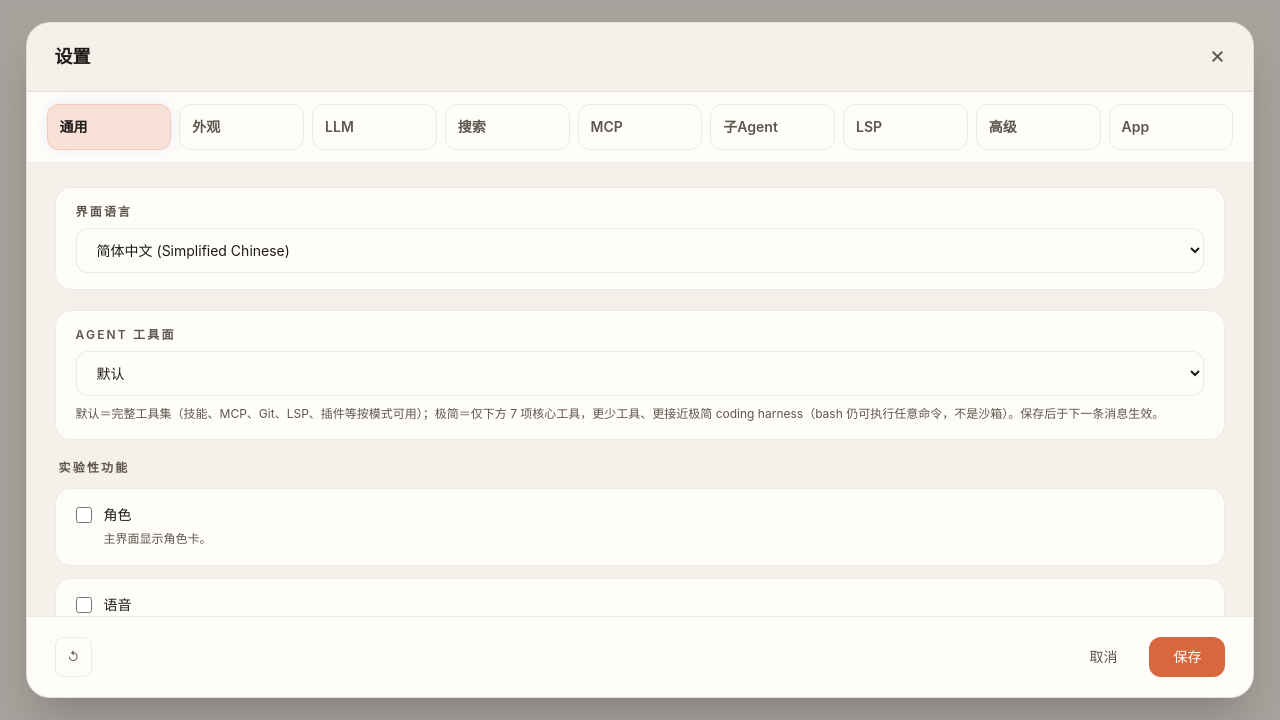
Test case: SettingsModal › exposes ProjectGraph limit settings in the advanced tab
Click the button titled "配置上下文压缩、Goal 循环、ProjectGraph 与性能参数。": (1038, 127) [976,104,1101,150]
(page scrolled)
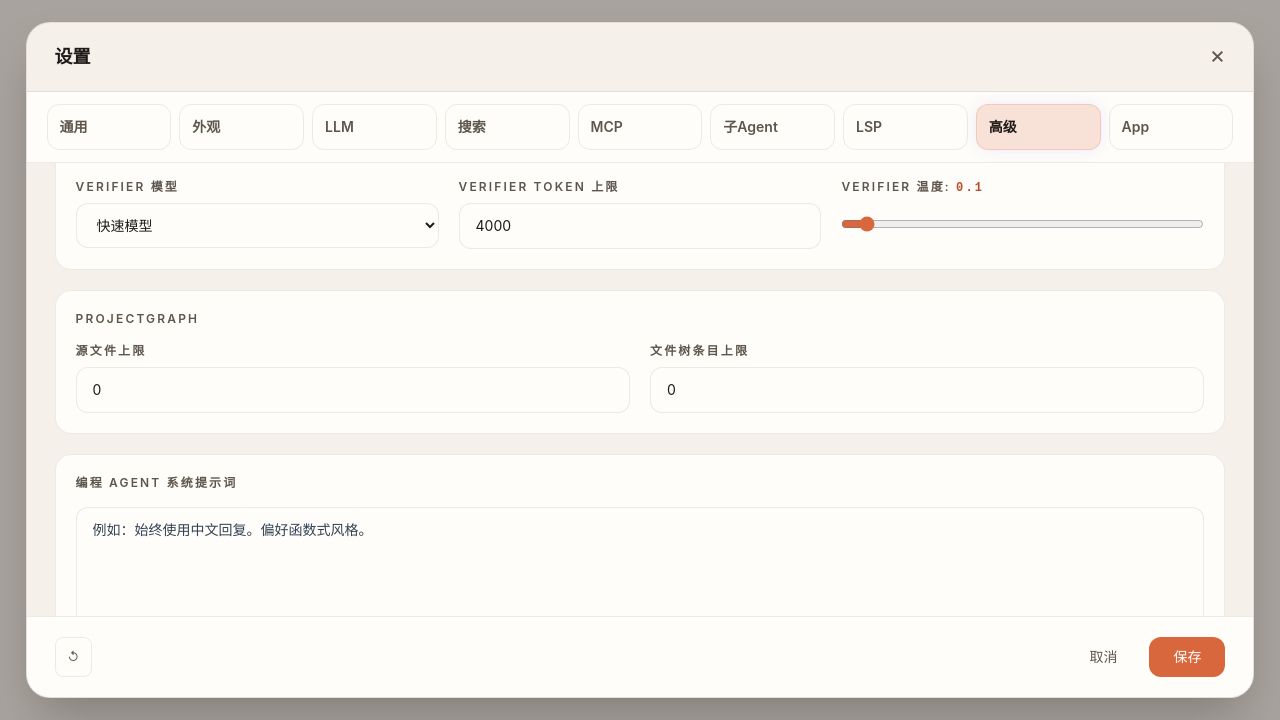
Now the text "源文件上限" is shown, box [76,343,146,358]
Now the text "文件树条目上限" is shown, box [650,343,749,358]
Now the number field named "参与 ProjectGraph 构建的最大文件数，0 表示不限制。" is shown, box [76,367,630,413]
